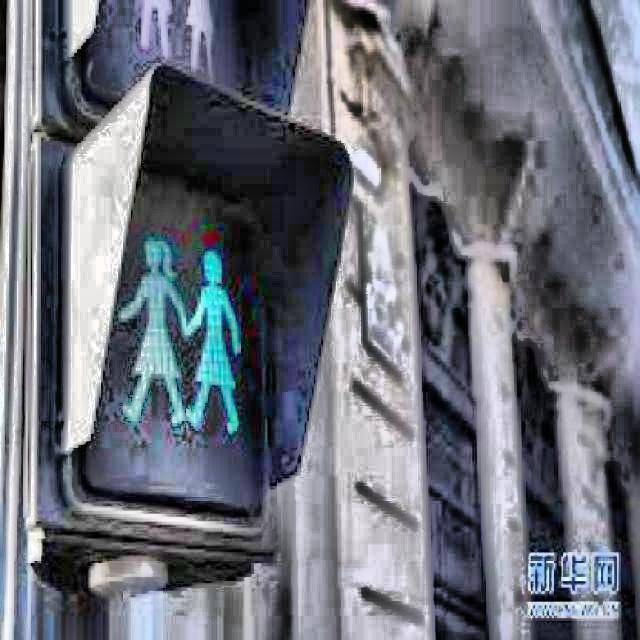semaforo pedestre: (0, 0, 380, 610)
